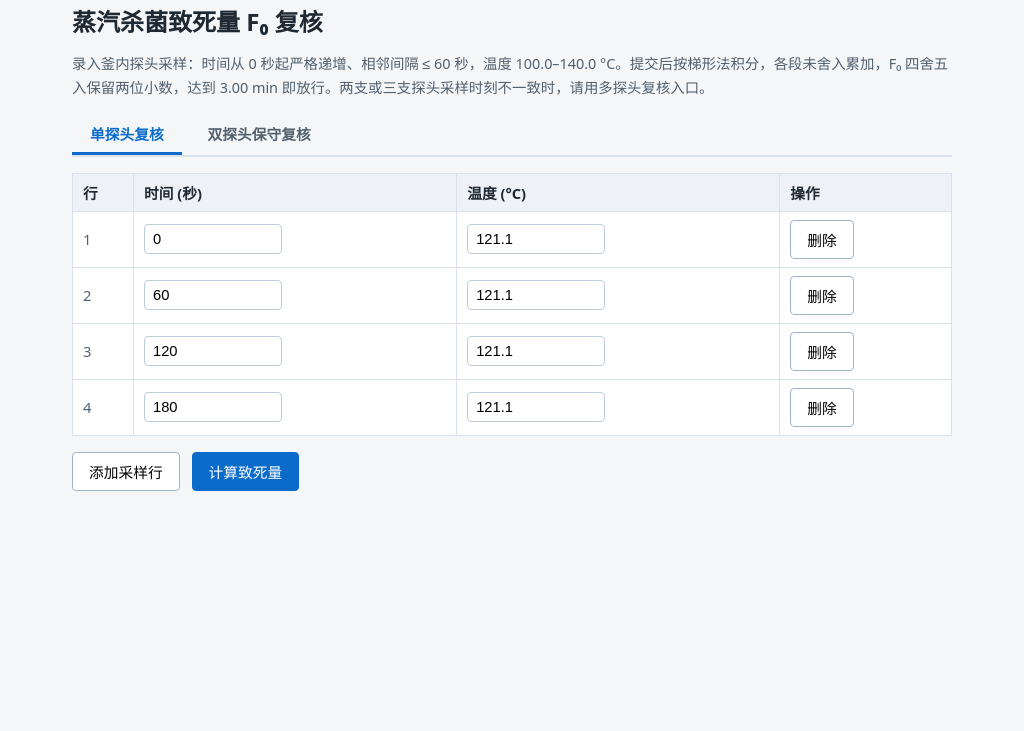
Test case: 双探头结果展示：图形与明细同一响应 › 未舍入总量低于门槛但四舍五入为 3.00 时仍判不放行
Click the tab "双探头保守复核".
click(259, 135)  # box 190,115 -> 329,155
(page scrolled)
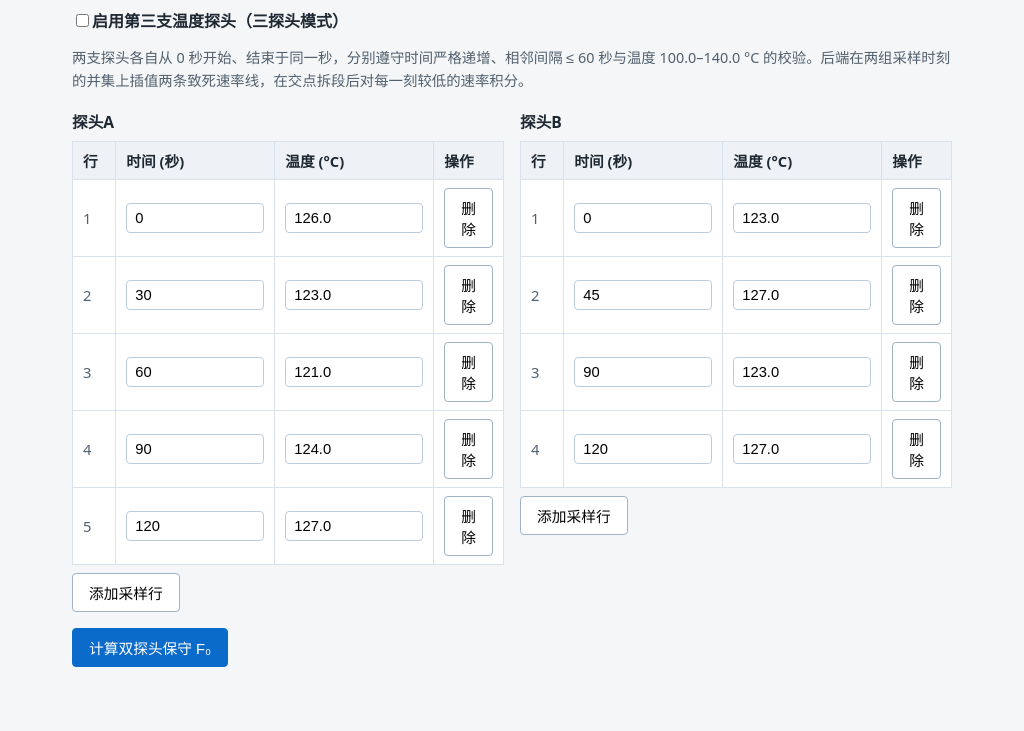
Click the button with test id "dual-submit".
click(150, 648)  # box 72,628 -> 228,667
(page scrolled)
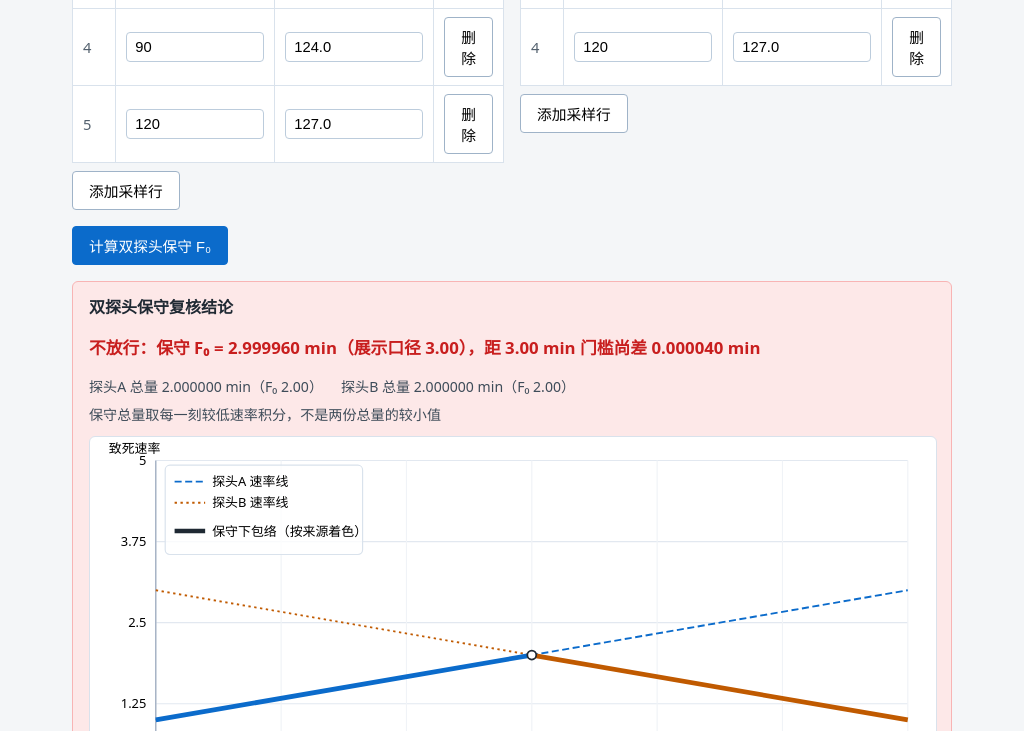
Expected: the text with test id "dual-conclusion" shows "不放行", 89,336 -> 760,359
Expected: the text with test id "dual-conclusion" shows "2.999960", 89,336 -> 760,359
Expected: the text with test id "dual-conclusion" shows "展示口径 3.00", 89,336 -> 760,359
